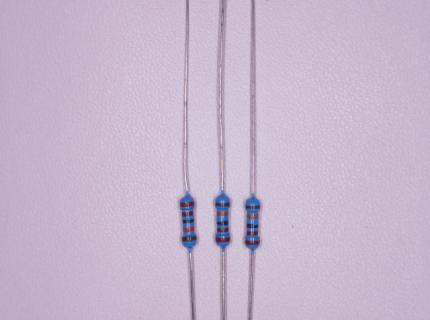Black band: (217, 220, 228, 226), (182, 218, 194, 223), (247, 223, 258, 228)
Brown band: (215, 201, 230, 207), (182, 236, 197, 242), (245, 205, 260, 209)
Orange band: (183, 226, 194, 232), (247, 214, 259, 219), (217, 211, 228, 216)
Red band: (180, 202, 195, 207), (244, 240, 259, 245), (216, 237, 230, 242), (182, 211, 193, 217), (217, 228, 228, 233), (247, 231, 258, 236)
